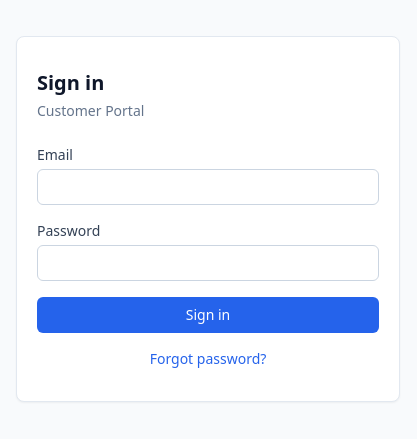
Test: LoginPage › shows validation errors for empty submit
Click the button "Sign in". click: (208, 315)
box: top-left (37, 297), bottom-right (379, 333)
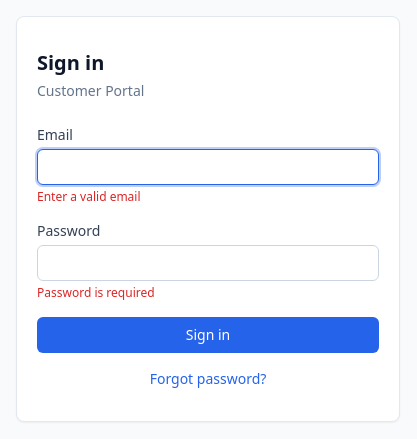
Expected: the text "Enter a valid email" is shown, top-left (37, 188), bottom-right (141, 205)
Expected: the text "Password is required" is shown, top-left (37, 284), bottom-right (155, 301)
